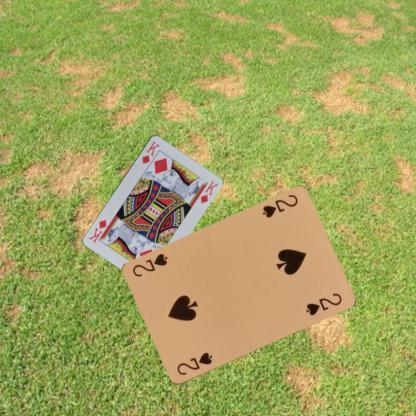2s: (260, 192, 300, 220), (174, 350, 214, 377)
Kd: (139, 138, 161, 165)
